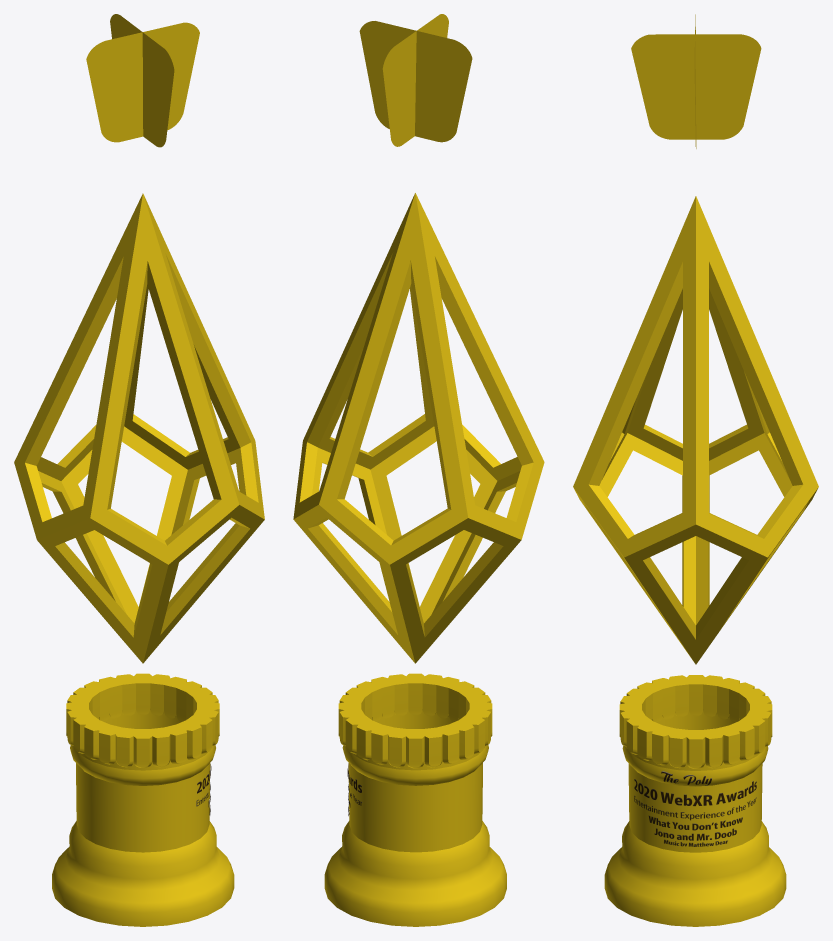
The model's file is 16ae2b7e-6711-4841-bd19-ebdcce8d95c6_EEOTY.glb.
The picture shows the model from 3 angles, left to right: view 1: azimuth 30°, elevation 25°; view 2: azimuth 150°, elevation 25°; view 3: azimuth 270°, elevation 25°; orthographic projection.
Parts seen in each view (by area): view 1: Diamond, Base, Crown; view 2: Diamond, Base, Crown; view 3: Diamond, Base, Crown, Engravings.
Boxes of the visible parts, x1=… form: Diamond: x1=14, y1=193, x2=264, y2=663; Base: x1=52, y1=673, x2=234, y2=926; Crown: x1=86, y1=14, x2=199, y2=147; Diamond: x1=293, y1=193, x2=544, y2=663; Base: x1=324, y1=673, x2=506, y2=926; Crown: x1=359, y1=14, x2=472, y2=146; Diamond: x1=573, y1=196, x2=818, y2=664; Base: x1=604, y1=675, x2=786, y2=926; Crown: x1=631, y1=14, x2=761, y2=148; Engravings: x1=634, y1=771, x2=756, y2=846.
Bounding box in the file's own units: 0.6616 × 2.48 × 0.6471.
3 materials, 2 textured.
